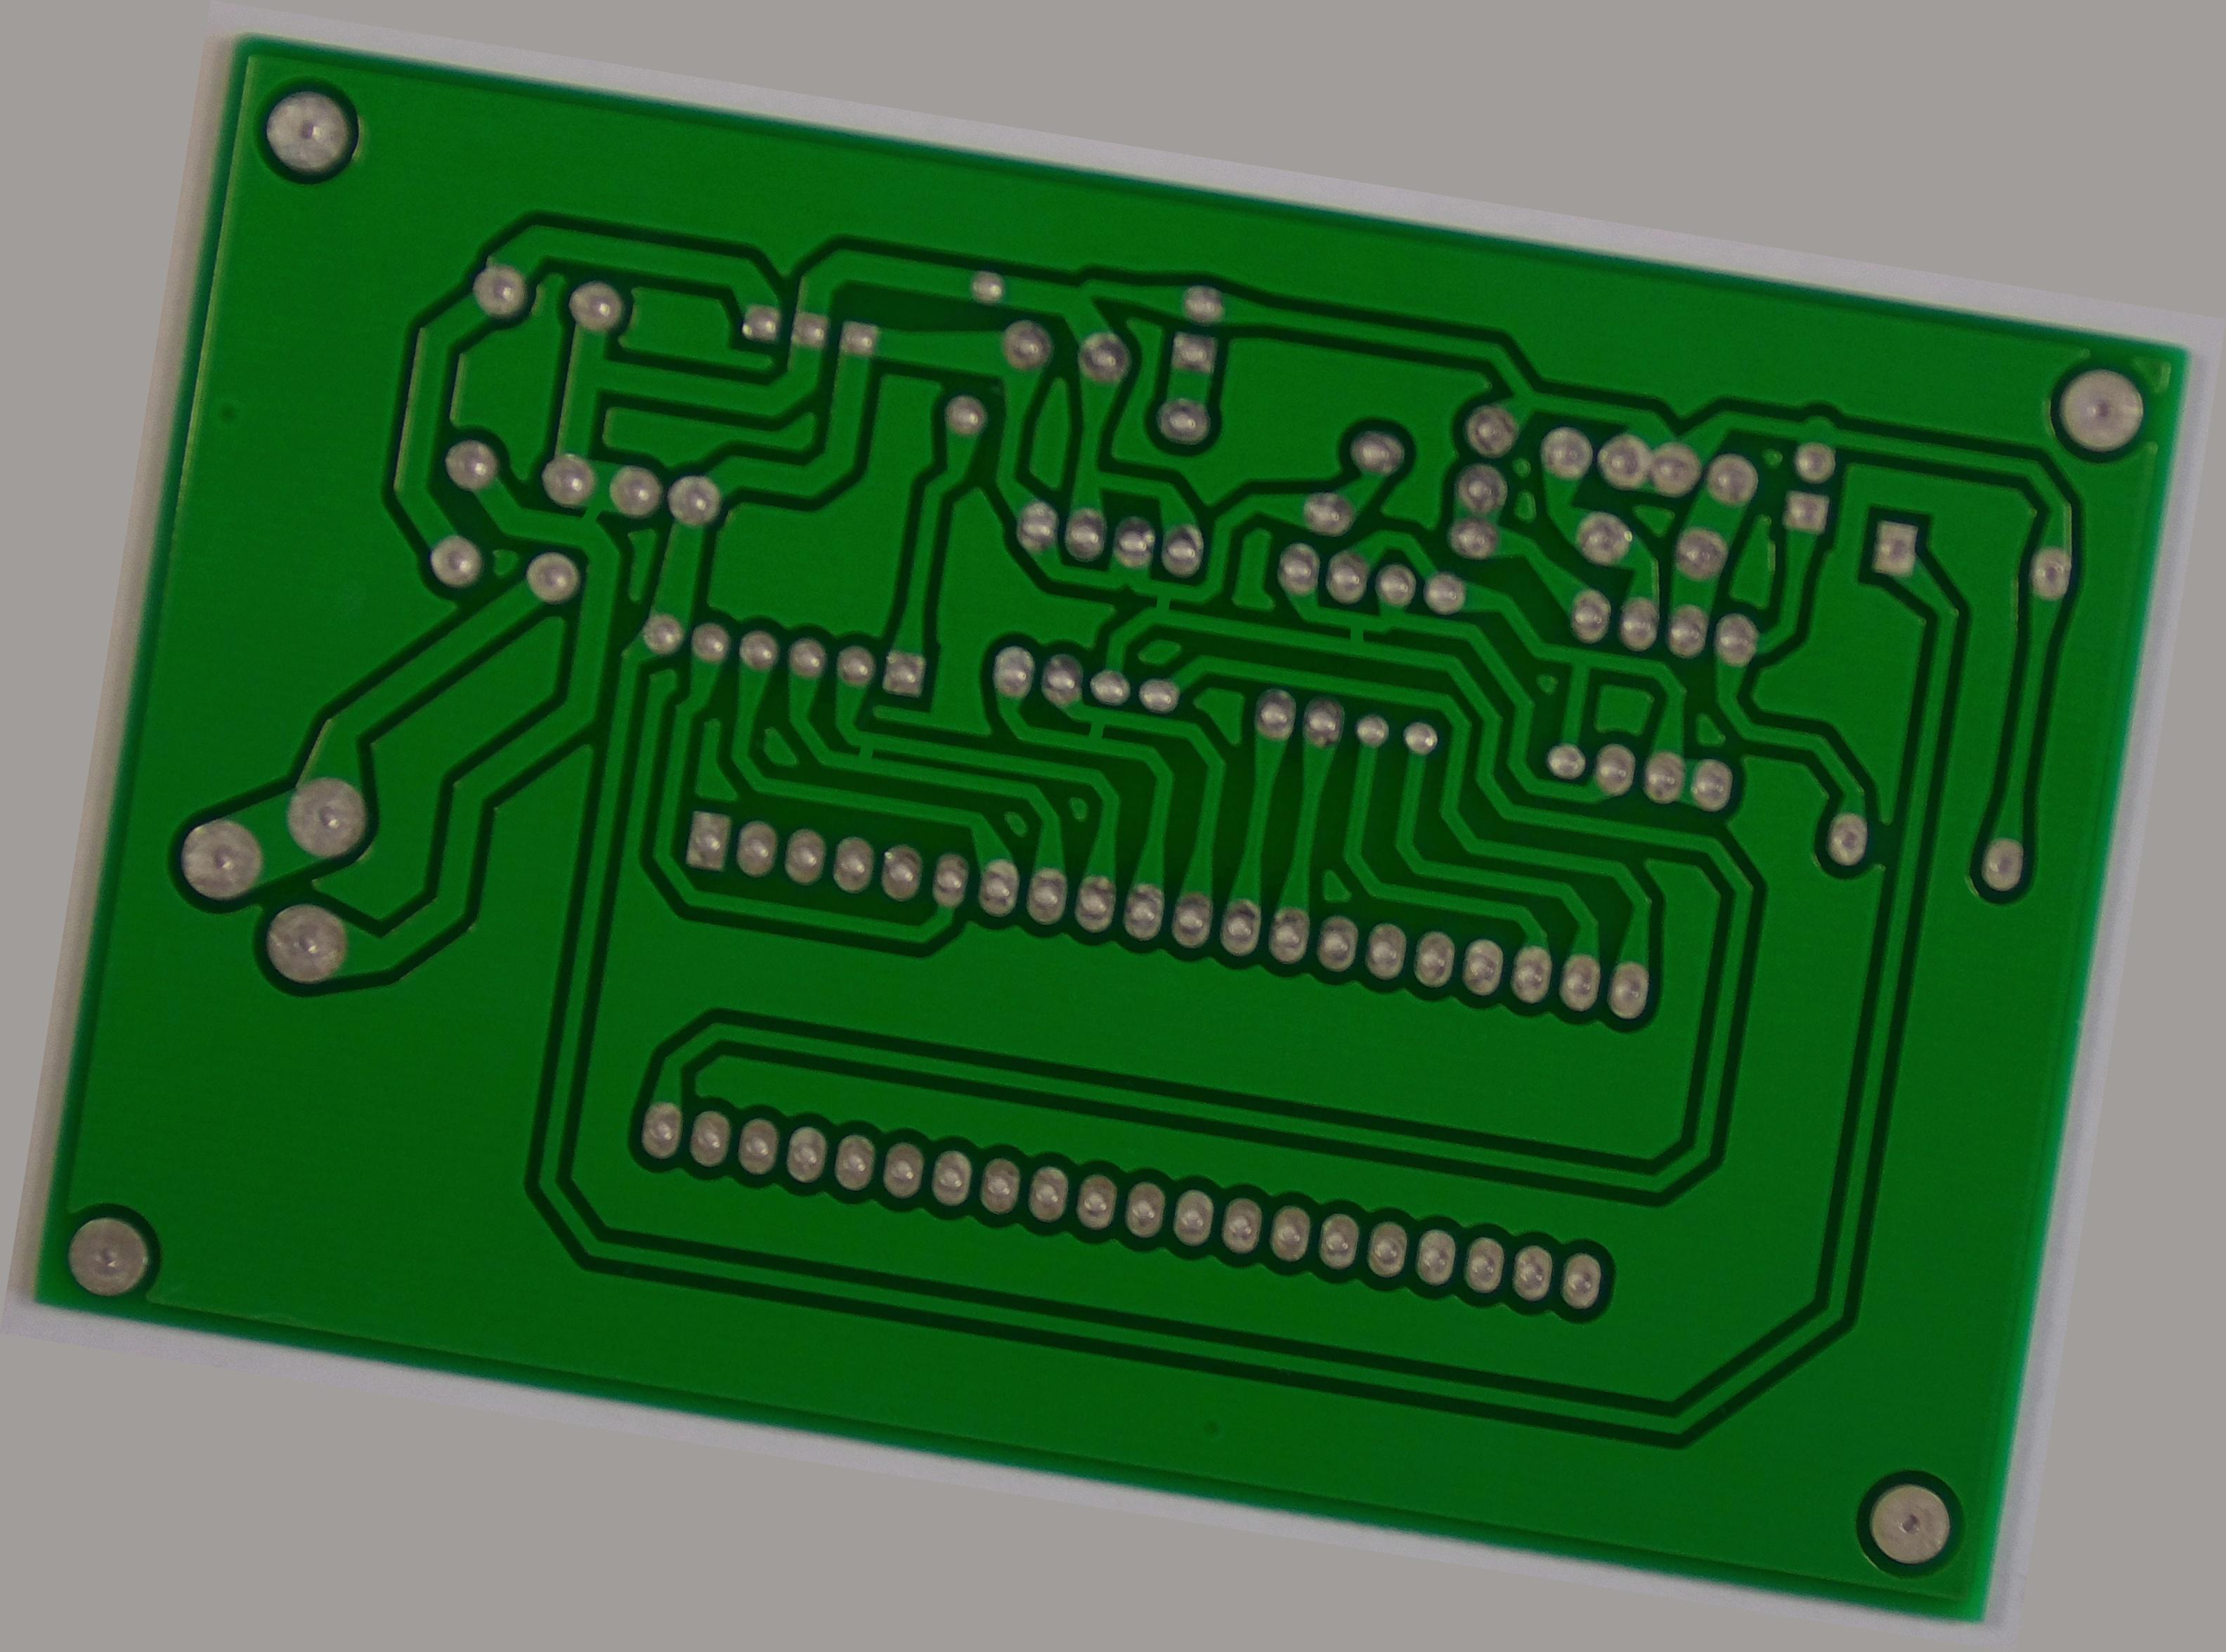short: (555, 477, 625, 548), (828, 718, 897, 788), (1064, 698, 1126, 764), (1129, 573, 1190, 632), (1327, 609, 1378, 661)
